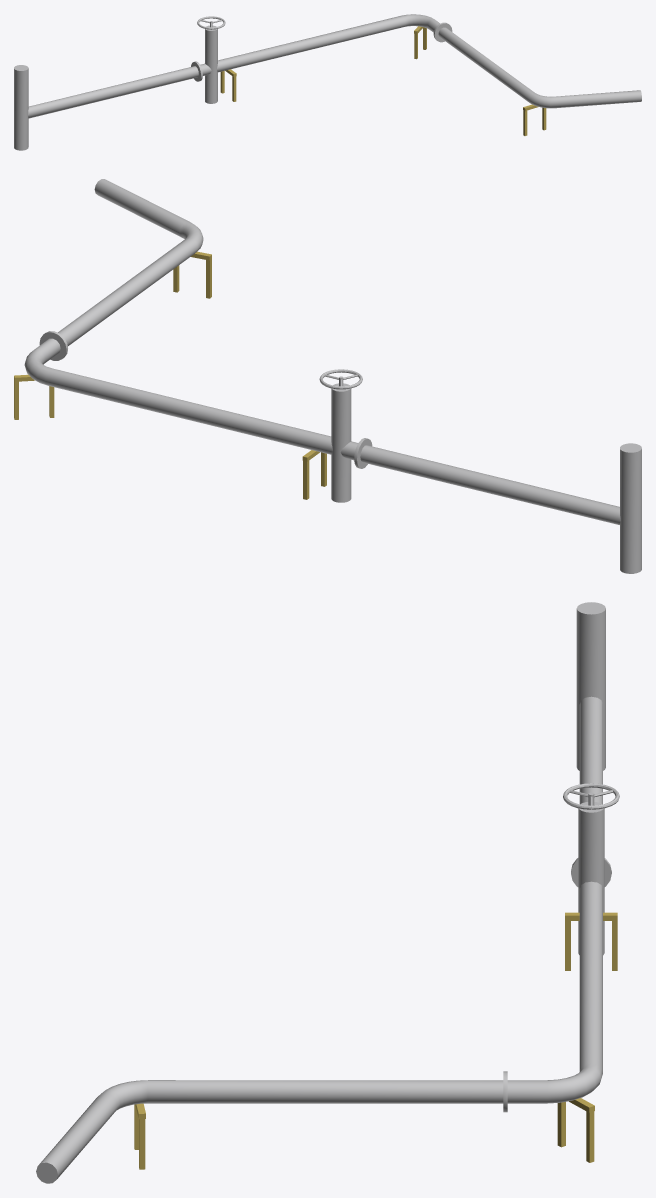
The model's file is Pipes.glb.
3 renders of one model, top to bottom at view 1: azimuth 30°, elevation 25°; view 2: azimuth 150°, elevation 25°; view 3: azimuth 270°, elevation 25°, orthographic. The views are drawn at different scales.
Parts seen in each view (by area): view 1: Pipes.Pipe, Pipes.Supports; view 2: Pipes.Pipe, Pipes.Supports; view 3: Pipes.Pipe, Pipes.Supports.
Boxes of the visible parts, x1,y1,x2,y2 form: Pipes.Pipe: (14, 14, 641, 150); Pipes.Supports: (220, 26, 546, 135); Pipes.Pipe: (24, 179, 641, 573); Pipes.Supports: (14, 251, 326, 499); Pipes.Pipe: (36, 602, 619, 1183); Pipes.Supports: (134, 912, 617, 1169).
Bounding box in the file's own units: 7.76 × 1.2 × 3.99.
